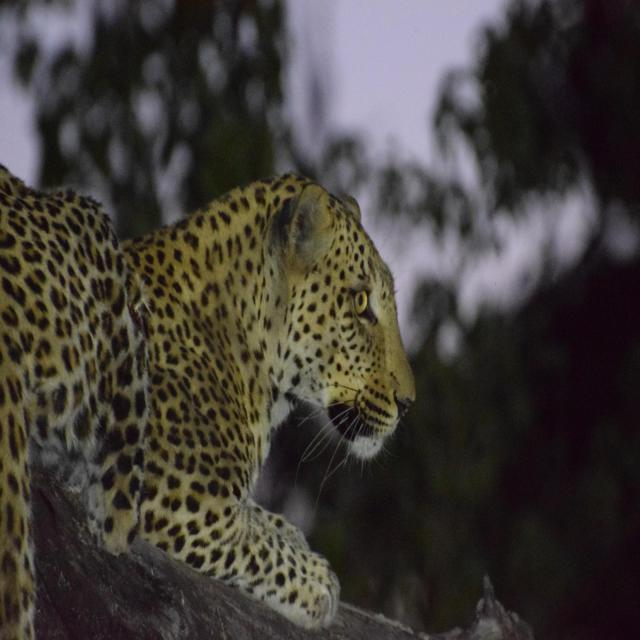Leopard: (0, 164, 426, 640)
